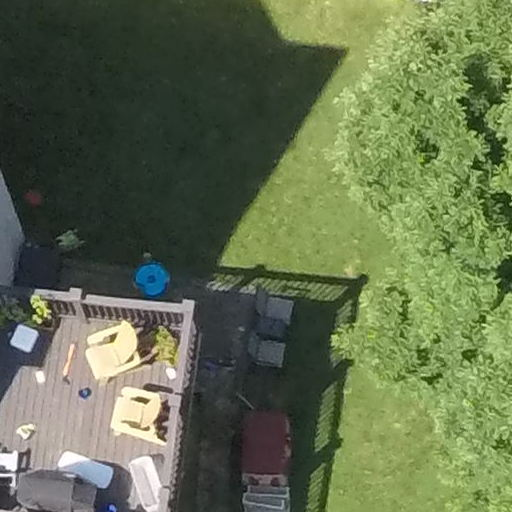flower pot: (1, 302, 63, 340), (149, 326, 183, 371)
porch: (1, 264, 234, 510)
